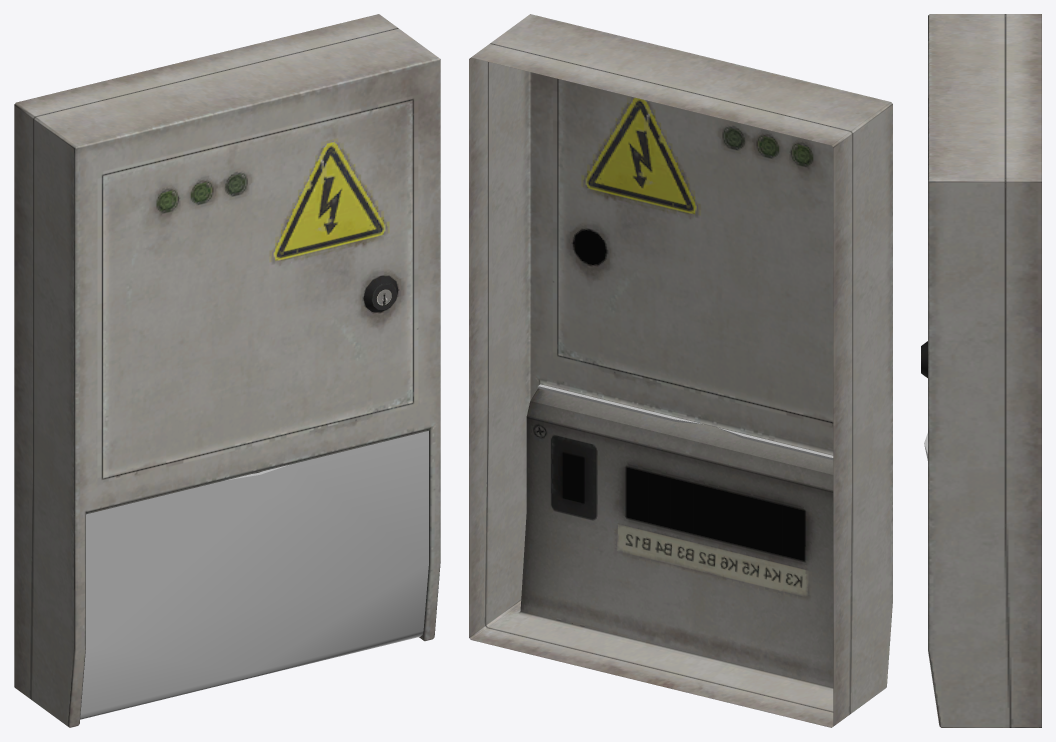
File: fuse_box.dae
3 renders of one model, left to right at view 1: azimuth 30°, elevation 25°; view 2: azimuth 150°, elevation 25°; view 3: azimuth 270°, elevation 25°, orthographic. The views are drawn at different scales.
Parts seen in each view (by area): view 1: polySurface188, pPlane4; view 2: polySurface188, pPlane4; view 3: polySurface188.
Boxes of the visible parts, x1,y1,x2,y2 form: polySurface188: [14, 14, 440, 727]; pPlane4: [80, 431, 428, 719]; polySurface188: [469, 14, 892, 727]; pPlane4: [538, 384, 833, 460]; polySurface188: [921, 14, 1041, 727].
Size of the model in its own units: 52.54 by 80.24 by 16.04.
